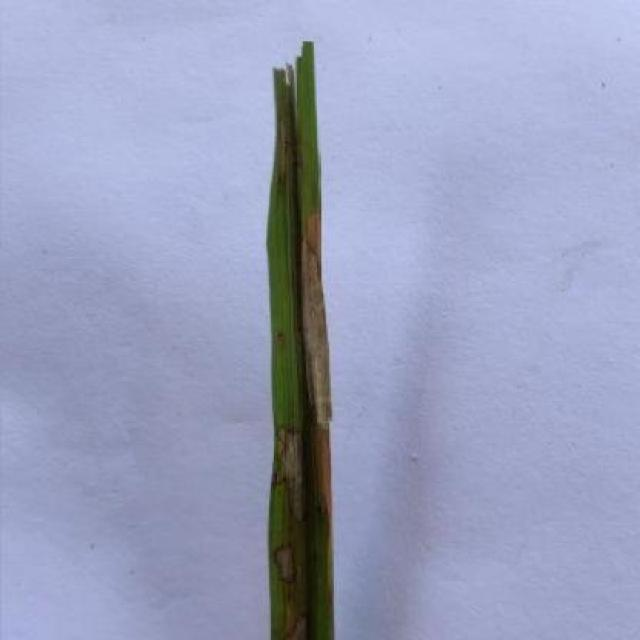Brown_Spot: (252, 20, 342, 640)
